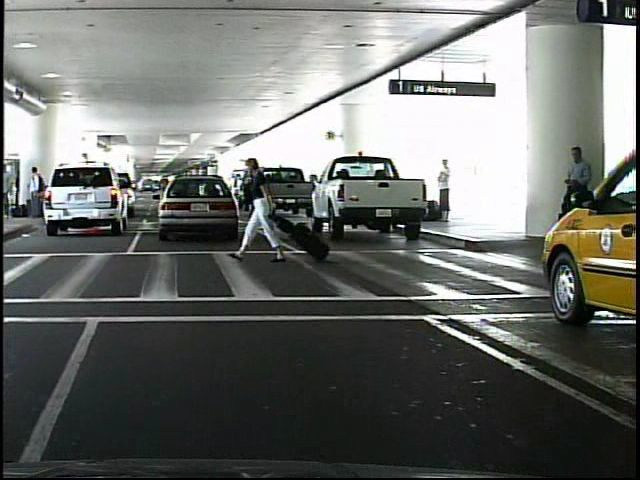person: (556, 142, 595, 254), (247, 156, 288, 261), (433, 155, 458, 223), (27, 163, 45, 223)
